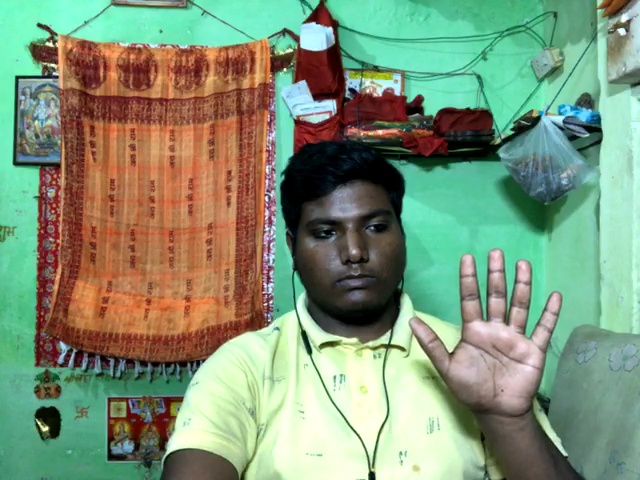Hello: (403, 242, 578, 424)
